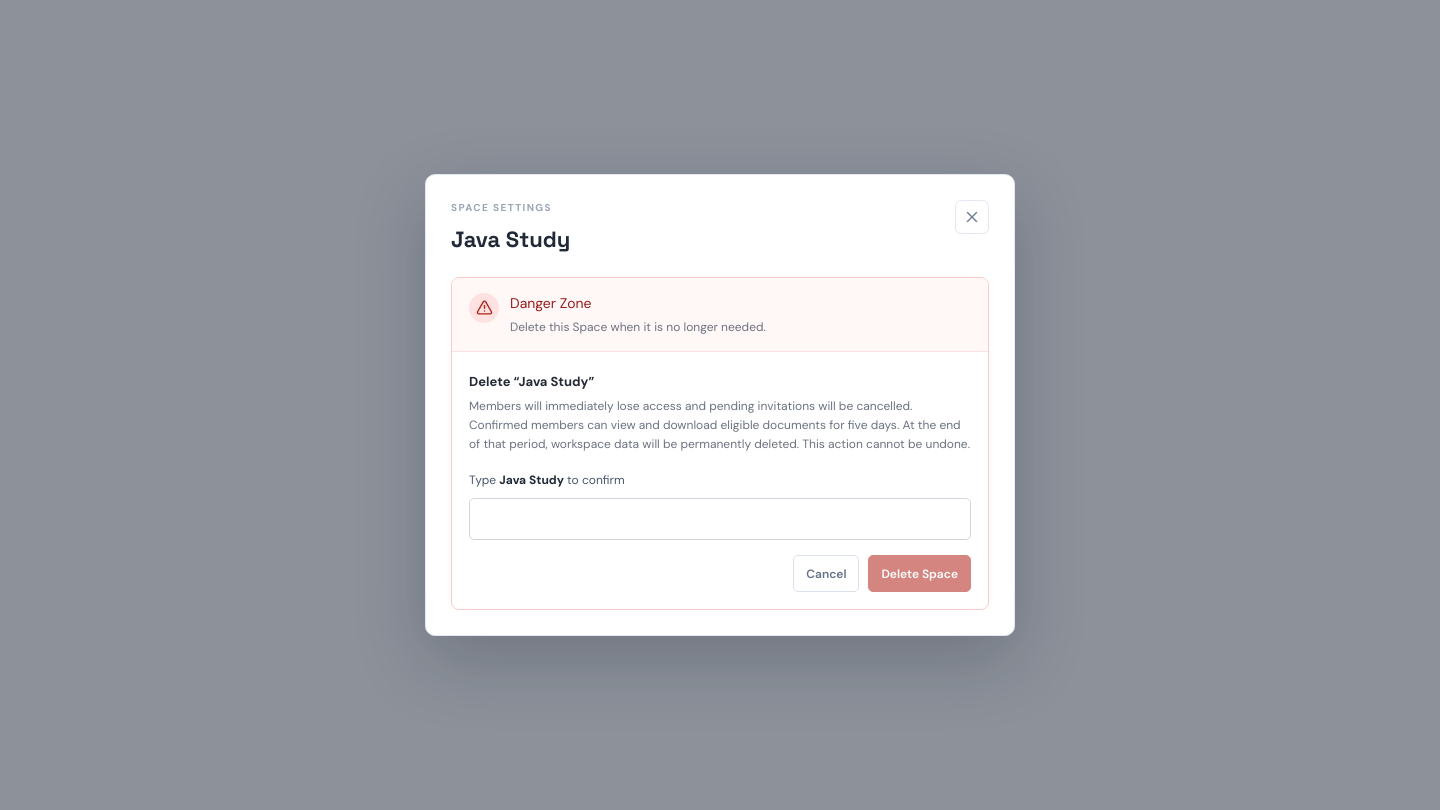
Scenario: workspace deletion confirmation › shows progress and navigates only after the server confirms deletion
The width and height of the screenshot is (1440, 810).
In the field labelled "Type Java Study to confirm": (720, 519) [469,498,971,540], type "Java Study"
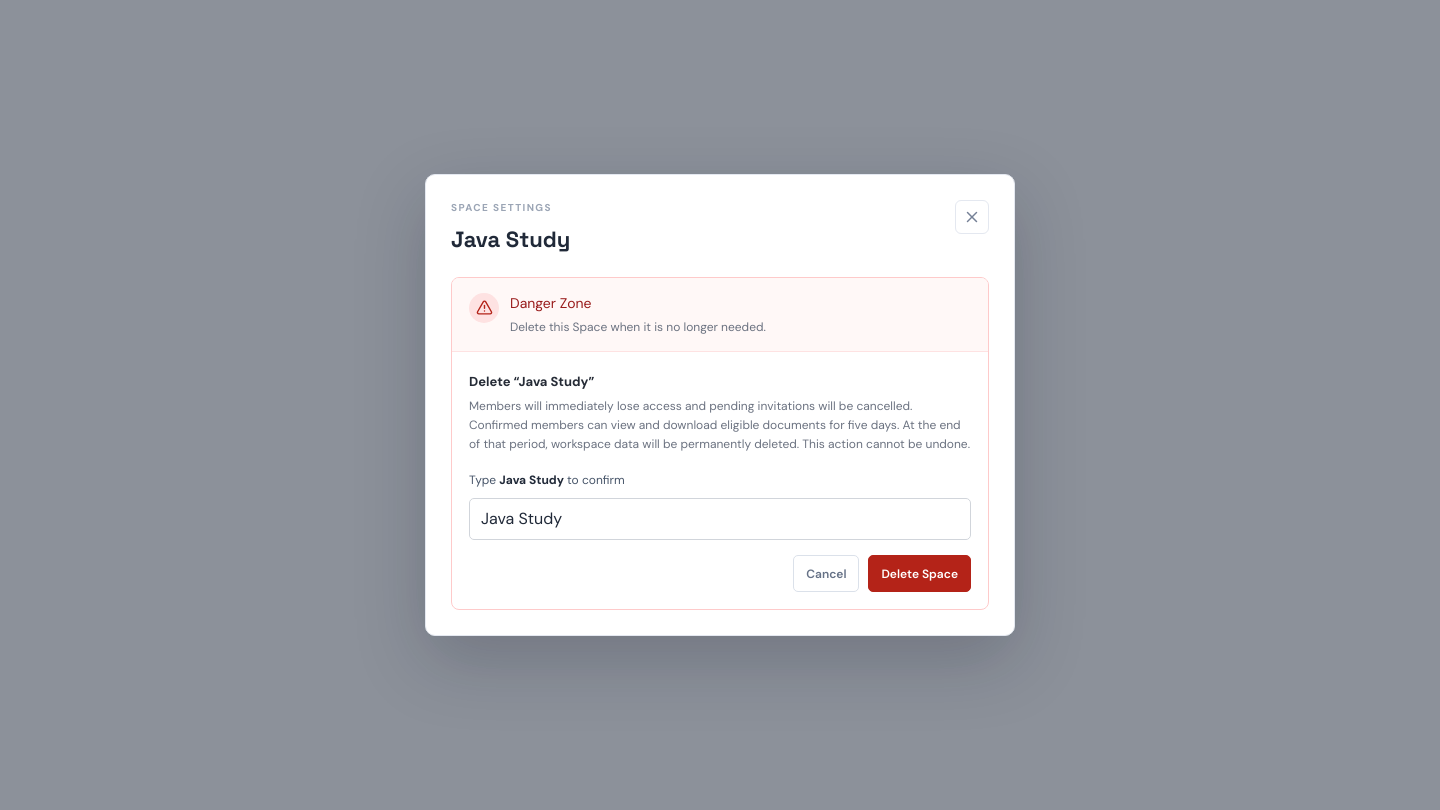
Click the button "Delete Space": click(920, 574) [868,555,971,592]
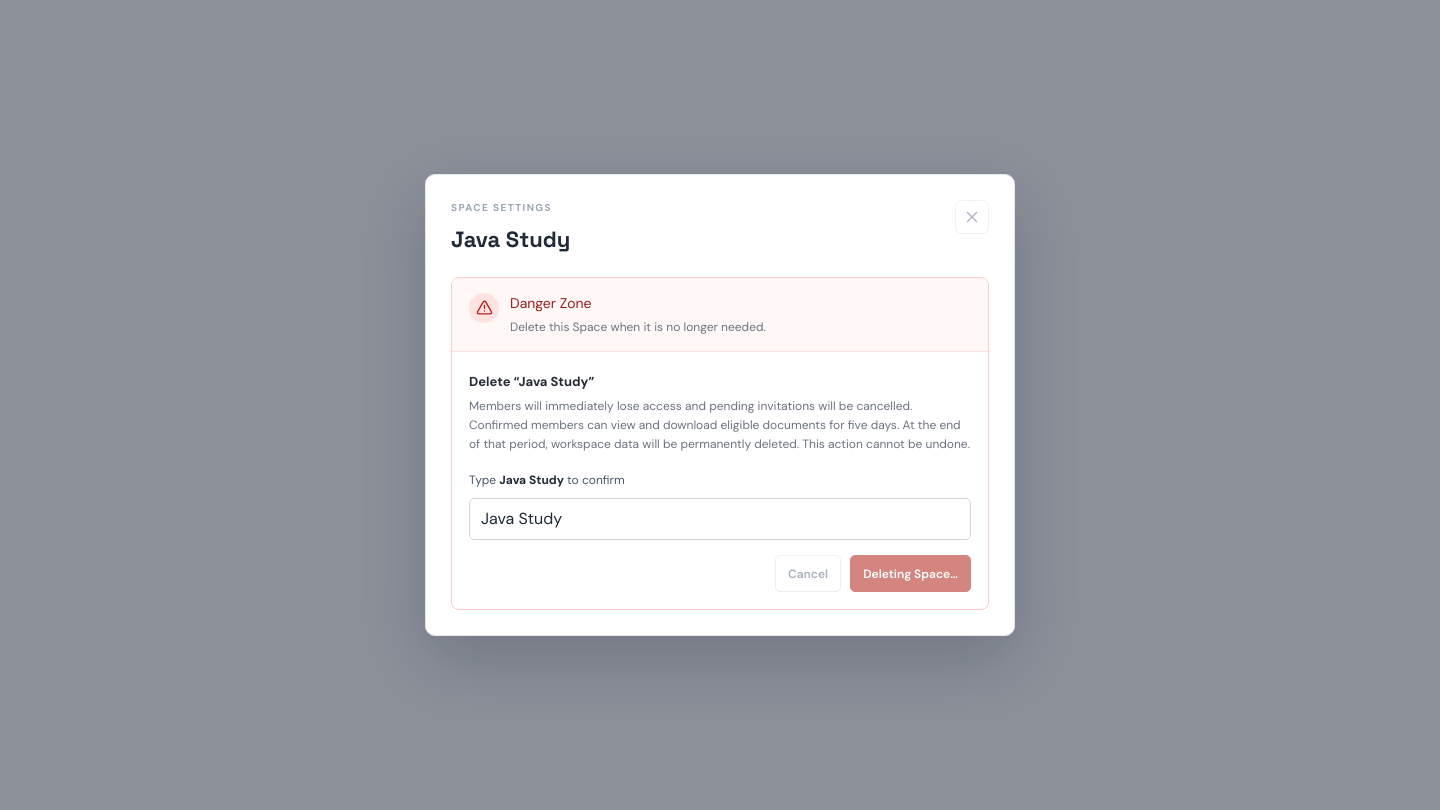
expect the button "Deleting Space…" is disabled: met, box [850,555,971,592]
